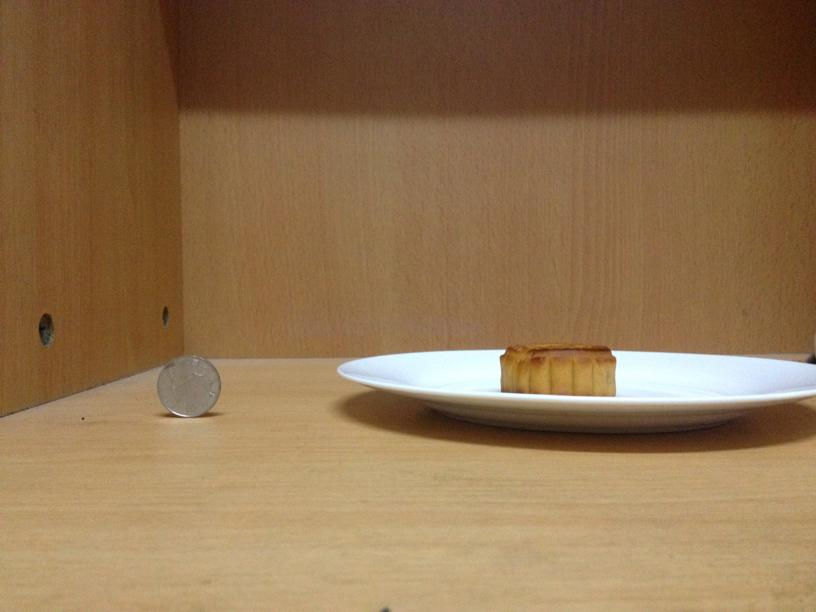coin: (156, 358, 221, 415)
mooncake: (497, 343, 619, 396)
